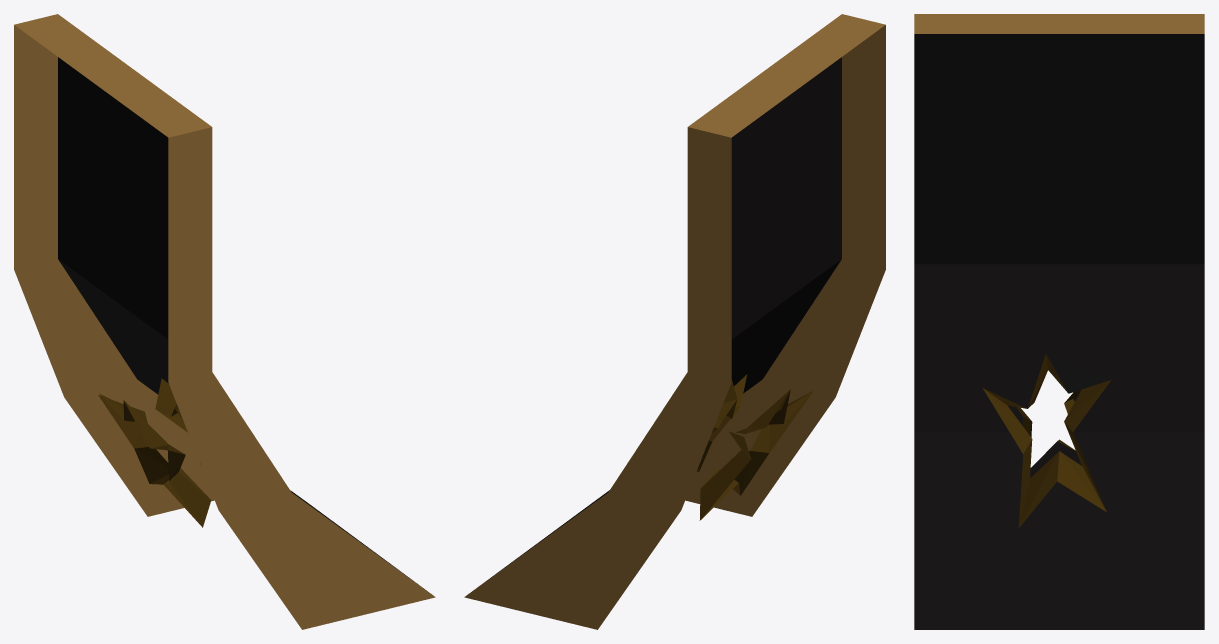
Rendered from obj_hole_4_0.obj.
3 views of the same model, side by side, from view 1: azimuth 30°, elevation 25°; view 2: azimuth 150°, elevation 25°; view 3: azimuth 270°, elevation 25° (orthographic). The views are drawn at different scales.
Size of the model in its own units: 1 by 1.88 by 1.
